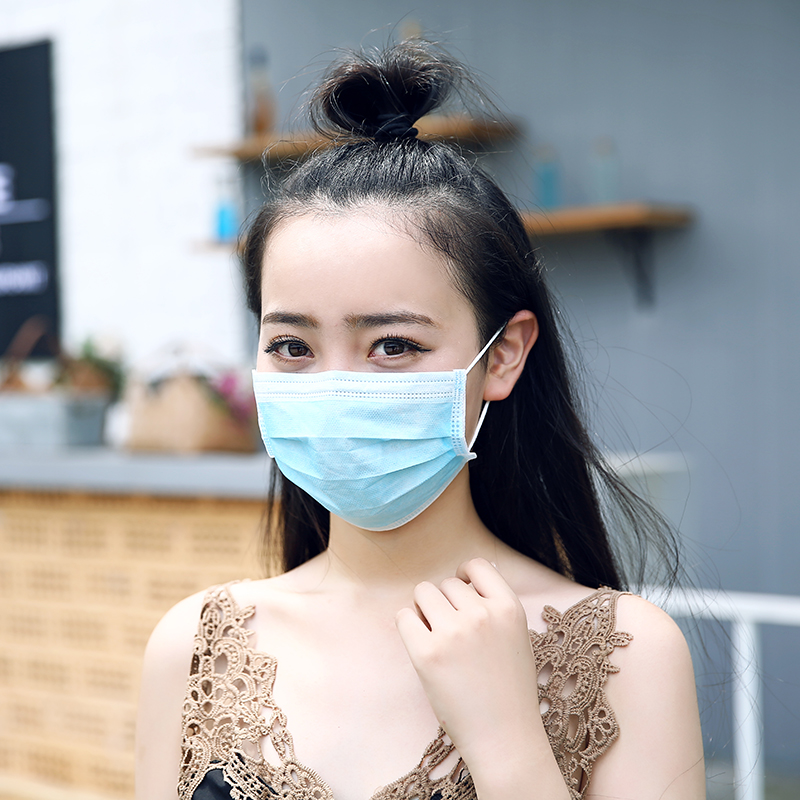face_mask: (255, 212, 479, 517)
